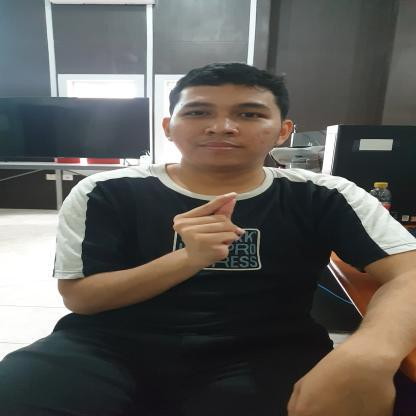R: (172, 191, 248, 270)
